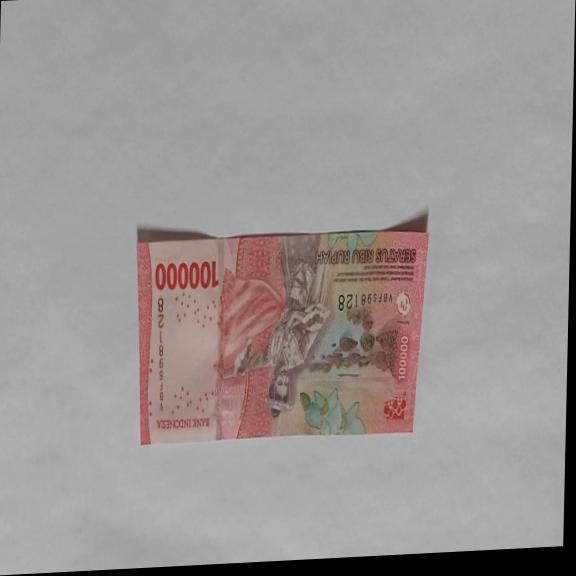Kertas: (132, 218, 429, 449), (153, 257, 219, 294)
